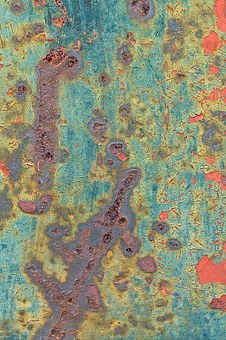rust: (74, 156, 186, 312), (6, 40, 72, 221), (22, 223, 88, 340), (111, 2, 160, 71)
